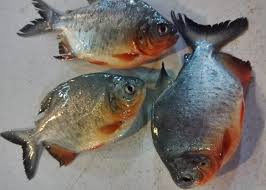Ikan Bawal: (159, 9, 252, 189), (3, 67, 151, 180), (16, 1, 181, 71)
